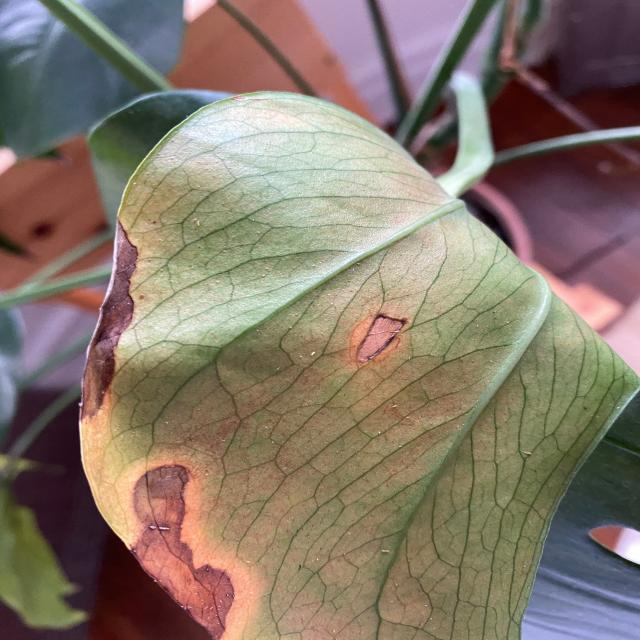Thrip-Adult-: (519, 448, 533, 455)
Thrip-Group-: (172, 226, 528, 613)
Thrip-Larva-: (307, 348, 317, 358), (195, 218, 203, 227), (379, 547, 390, 553), (391, 402, 398, 409), (404, 415, 412, 420), (245, 559, 253, 564), (332, 628, 337, 634)
